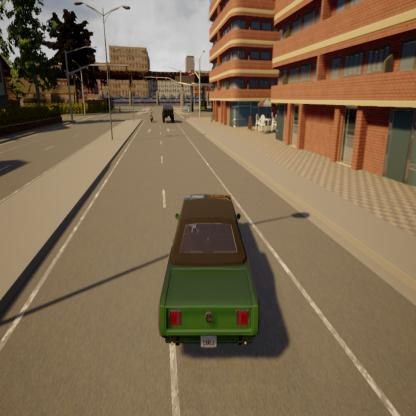Cars: (155, 187, 264, 364), (158, 100, 176, 126)
